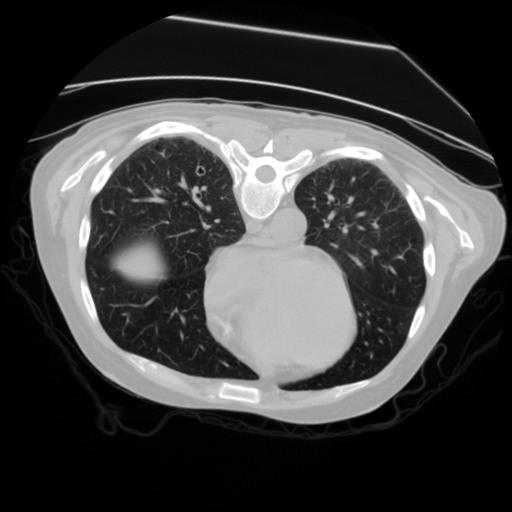nodule: (190, 163, 208, 181)
